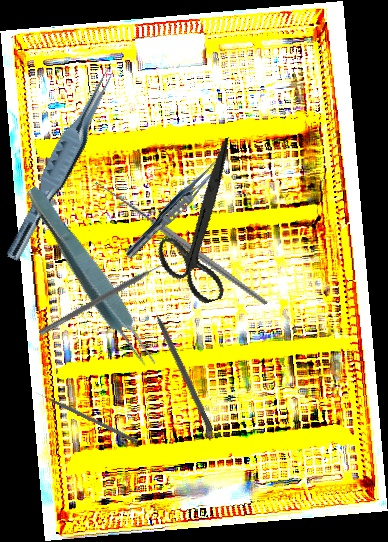Hook Surgical: (85, 138, 269, 352), (147, 299, 216, 433), (34, 389, 140, 444)
Iris Scissors: (129, 136, 279, 314)
Spatula Surgical: (38, 259, 169, 342)
Tissue Forceps: (19, 180, 163, 375), (4, 63, 120, 267), (121, 153, 227, 265)
